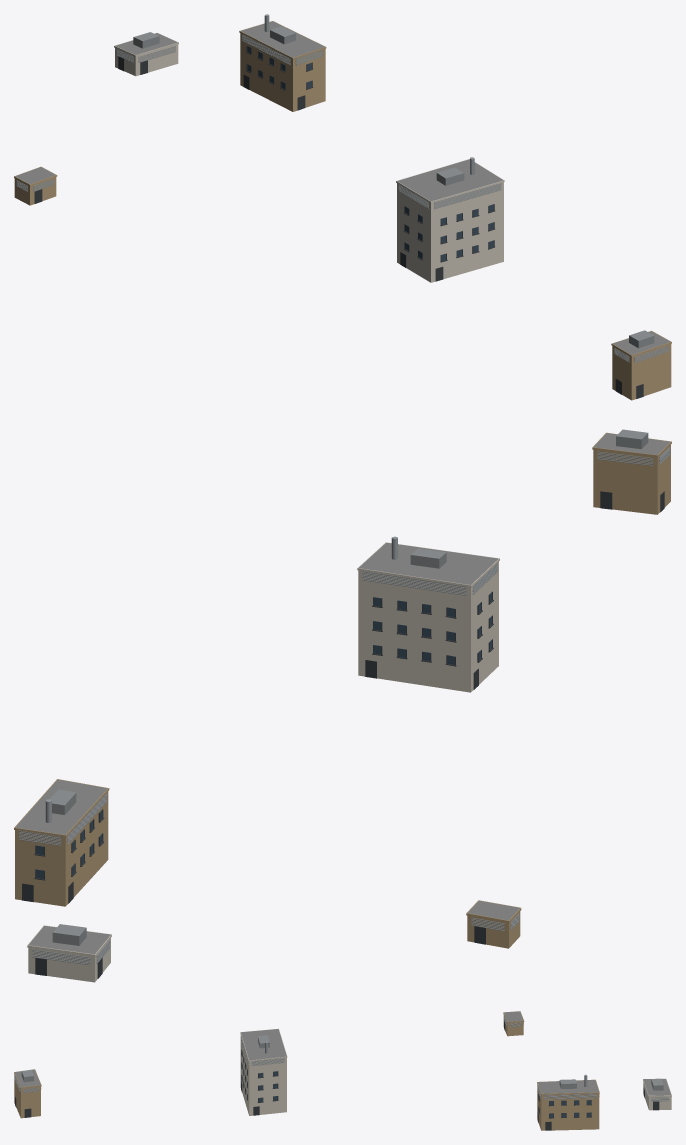
File: imperial_campus_service_buildings.glb
3 renders of one model, top to bottom at view 1: azimuth 30°, elevation 25°; view 2: azimuth 150°, elevation 25°; view 3: azimuth 270°, elevation 25°, orthographic. The views are drawn at different scales.
Size of the model in its own units: 64.37 by 20.5 by 164.
